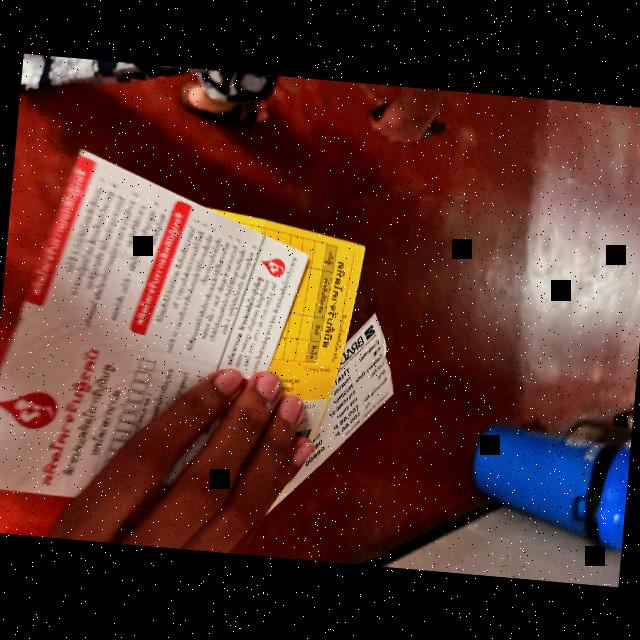scrap_paper: (0, 147, 316, 517), (258, 309, 418, 519), (219, 206, 371, 407)
